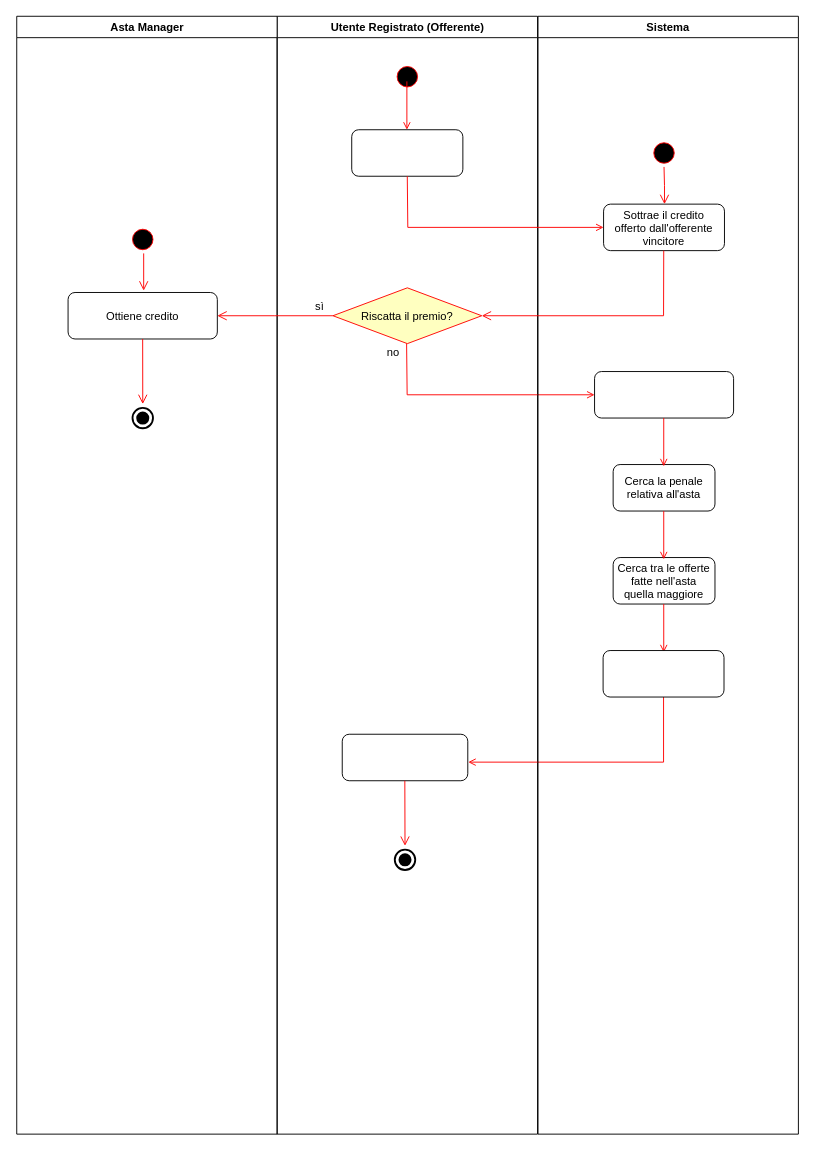
The diagram is 815 pixels wide and 1150 high, and some of its shapes have lost their labels. Each missing label, with the centre of its shape:
Calcola il credito da risarcire all'offerente vincitore: the point at 663,673
Imposta nel database che l'asta è stata rifiutata dall'offerente vincitore: the point at 664,394
Ottiene il risarcimento: the point at 404,757
Vince l'asta: the point at 407,152
